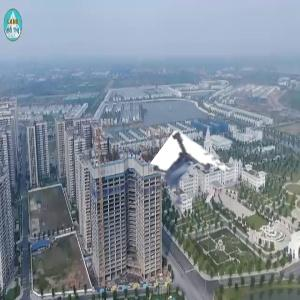drone: (147, 144, 226, 223)
